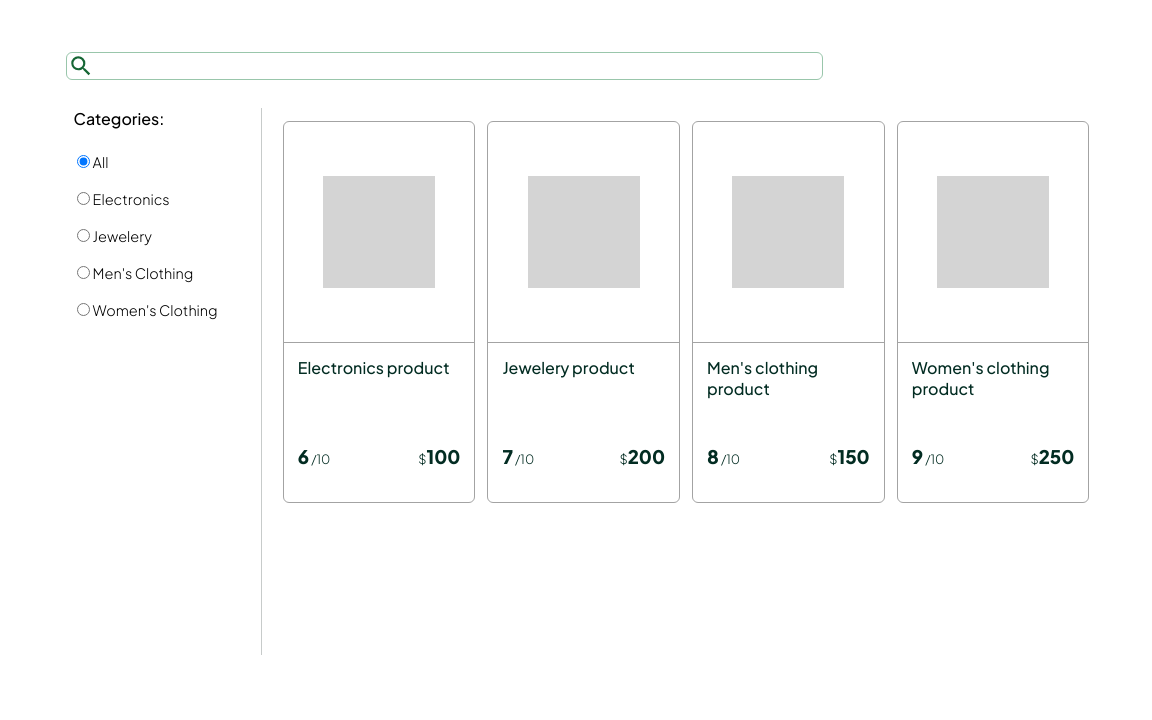
it: filter products › shows only jewelery products when 'jewelery' filter is clicked
Click the radio button labelled "Jewelery" at point(83, 235), box [77, 229, 90, 242]
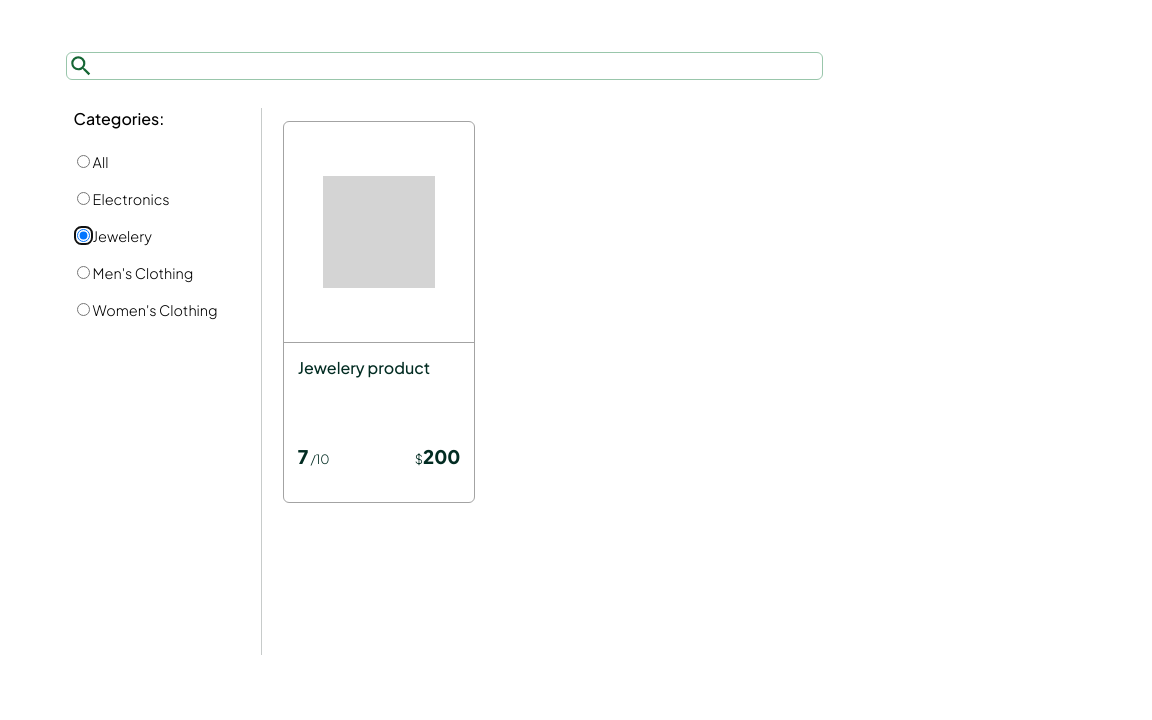
Check: the link "Electronics product" is gone
Check: the link "Men's clothing product" is gone
Check: the link "Women's clothing product" is gone
